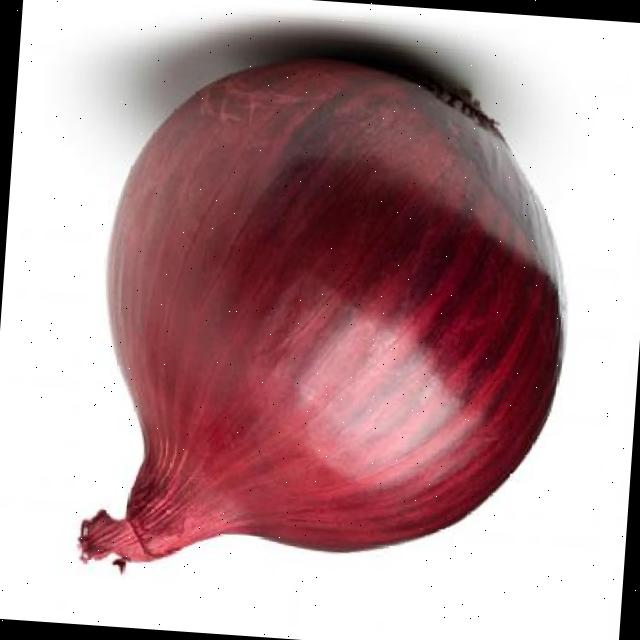Onion: (76, 55, 561, 568)
